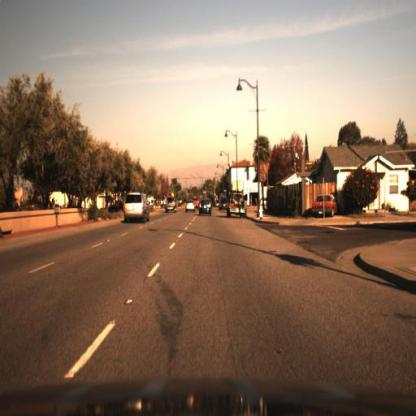car: (118, 180, 153, 229), (308, 186, 342, 221), (227, 189, 250, 220), (198, 195, 215, 223), (163, 194, 180, 219), (219, 191, 231, 215), (184, 198, 196, 218)
